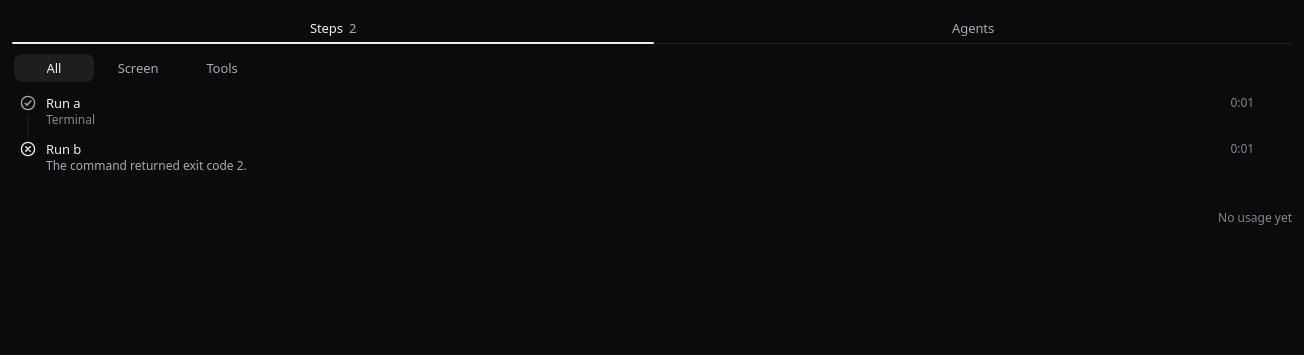
Test: ActivityRail › unfolds one step at a time in place, and Escape folds it and returns focus
The image size is (1304, 355).
Check: the element "Run b The command returned exit code 2. 0:01" is shown, box [12, 134, 1282, 180]
Click the button "Run a Terminal 0:01": (63, 103) [12, 88, 1282, 134]
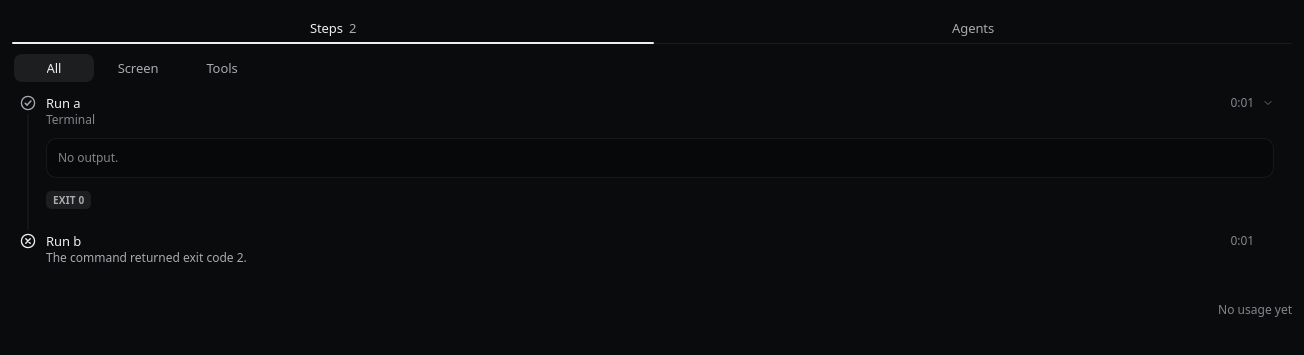
Click the button "Run b The command returned exit code 2. 0:01": (64, 241) [12, 226, 1282, 272]
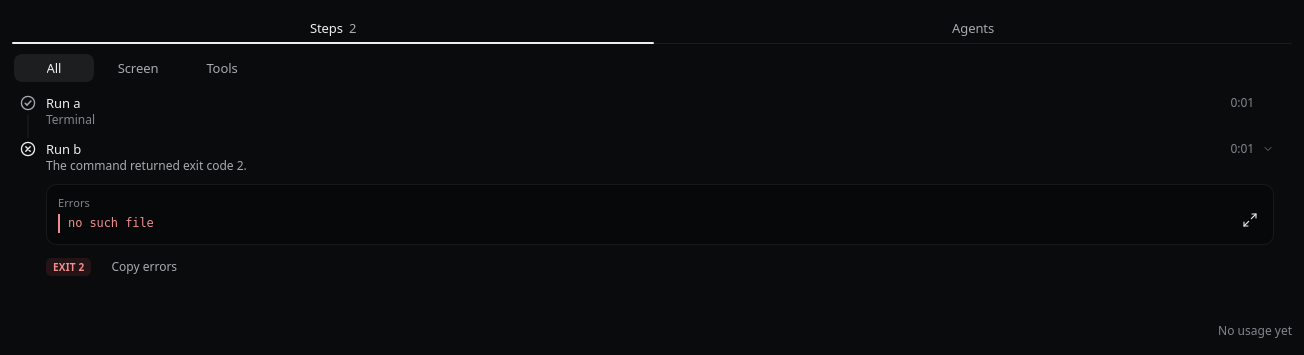
Check: the button "Run b The command returned exit code 2. 0:01" is expanded, box [12, 134, 1282, 180]
Check: the element named "Standard error text" reads "no such file", box [68, 216, 154, 230]
Press Escape in the element named "Standard error text", box [58, 214, 1274, 233]
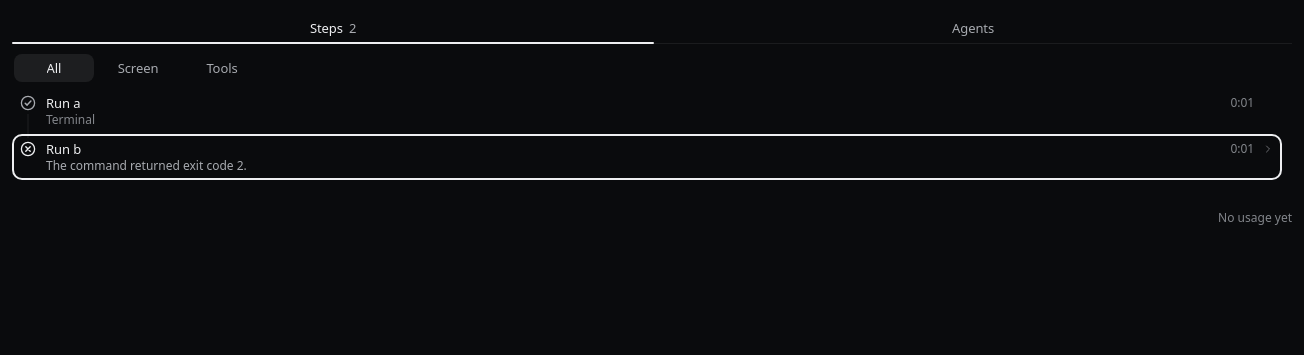
Check: the button "Run b The command returned exit code 2. 0:01" is collapsed, box [12, 134, 1282, 180]
